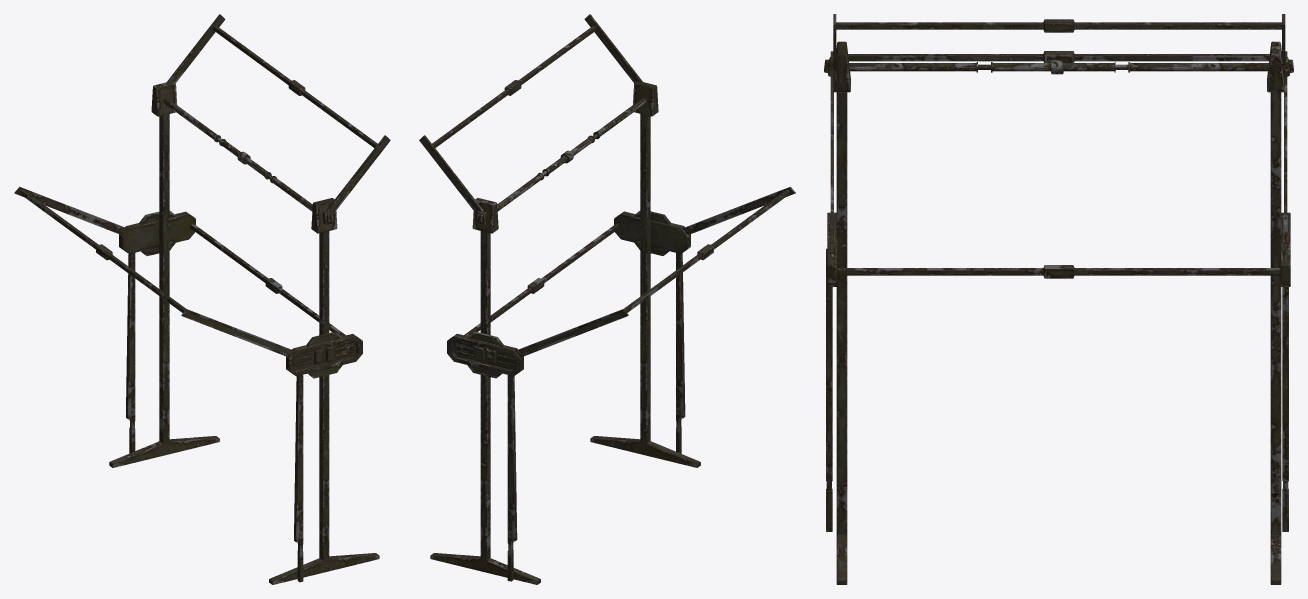
Rendered from SM_Fixtures_polySurface20.fbx.
The picture shows the model from 3 angles, left to right: view 1: azimuth 30°, elevation 25°; view 2: azimuth 150°, elevation 25°; view 3: azimuth 270°, elevation 25°; orthographic projection. The views are drawn at different scales.
Visible parts, largest first — view 1: SM_Fixtures_polySurface20_LOD0; view 2: SM_Fixtures_polySurface20_LOD0; view 3: SM_Fixtures_polySurface20_LOD0.
Part boxes in pixels (x1,y1,x2,y2): SM_Fixtures_polySurface20_LOD0: (14, 14, 390, 584); SM_Fixtures_polySurface20_LOD0: (419, 14, 795, 584); SM_Fixtures_polySurface20_LOD0: (824, 14, 1293, 584).
Size of the model in its own units: 251 by 358 by 484.
Materials: 1 (1 with a texture image).
